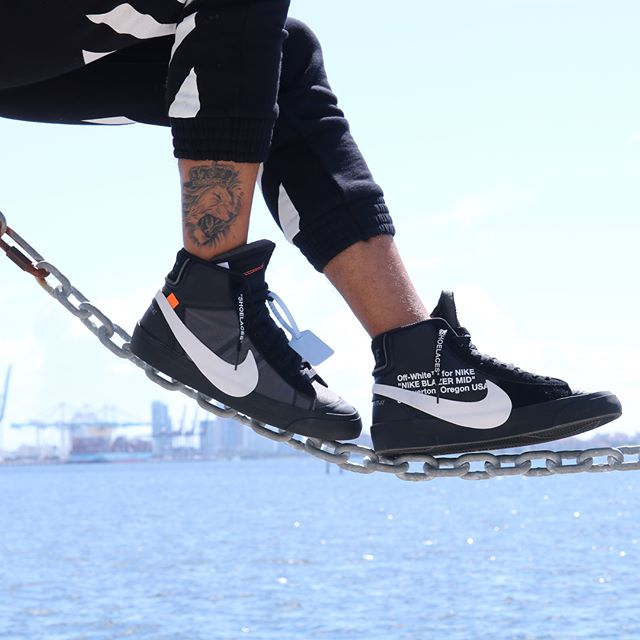Nike Blazer Grim Reaper: (115, 223, 366, 462), (358, 285, 631, 463)
